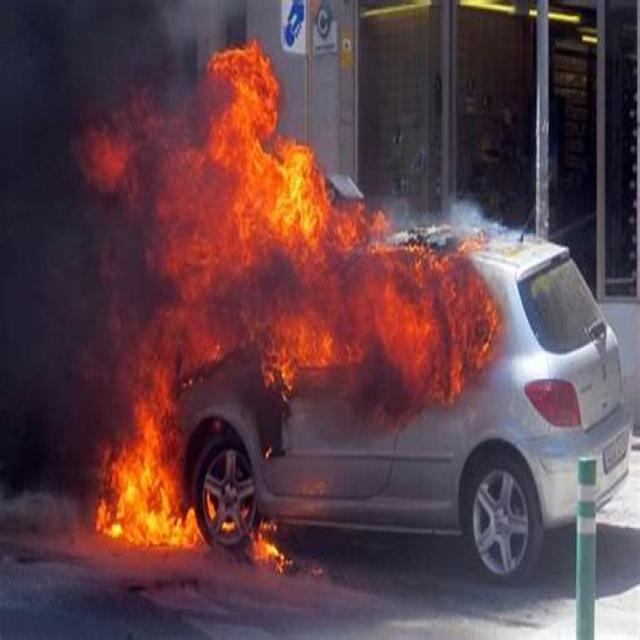fire: (223, 52, 323, 245), (106, 449, 192, 551)
